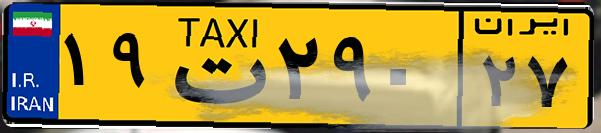0: (385, 28, 445, 110)
1: (57, 26, 110, 100)
2: (270, 28, 330, 110), (475, 38, 525, 113)
7: (525, 38, 570, 115)
9: (330, 28, 385, 110), (110, 28, 158, 98)
ت: (158, 12, 270, 120)
